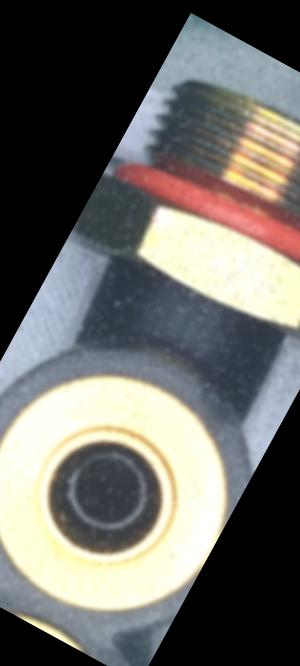bump: (185, 374, 253, 437)
joint line: (166, 291, 206, 351)
